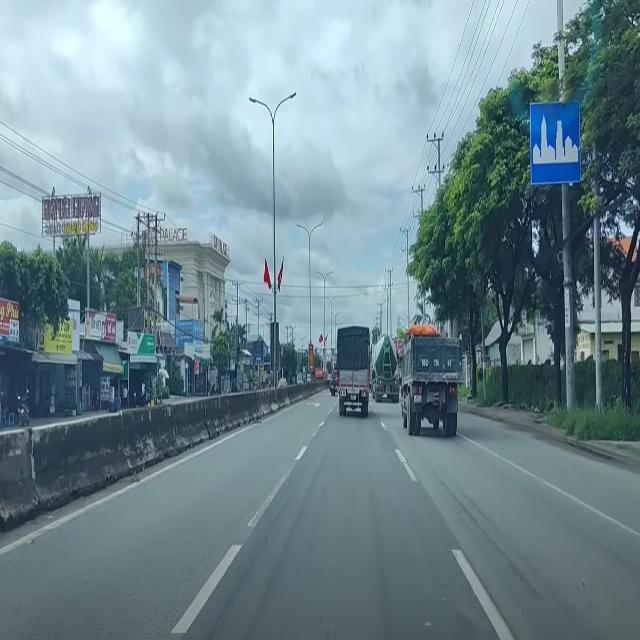Bien hieu lenh bat dau khu dong dan cu: (528, 99, 586, 191)
